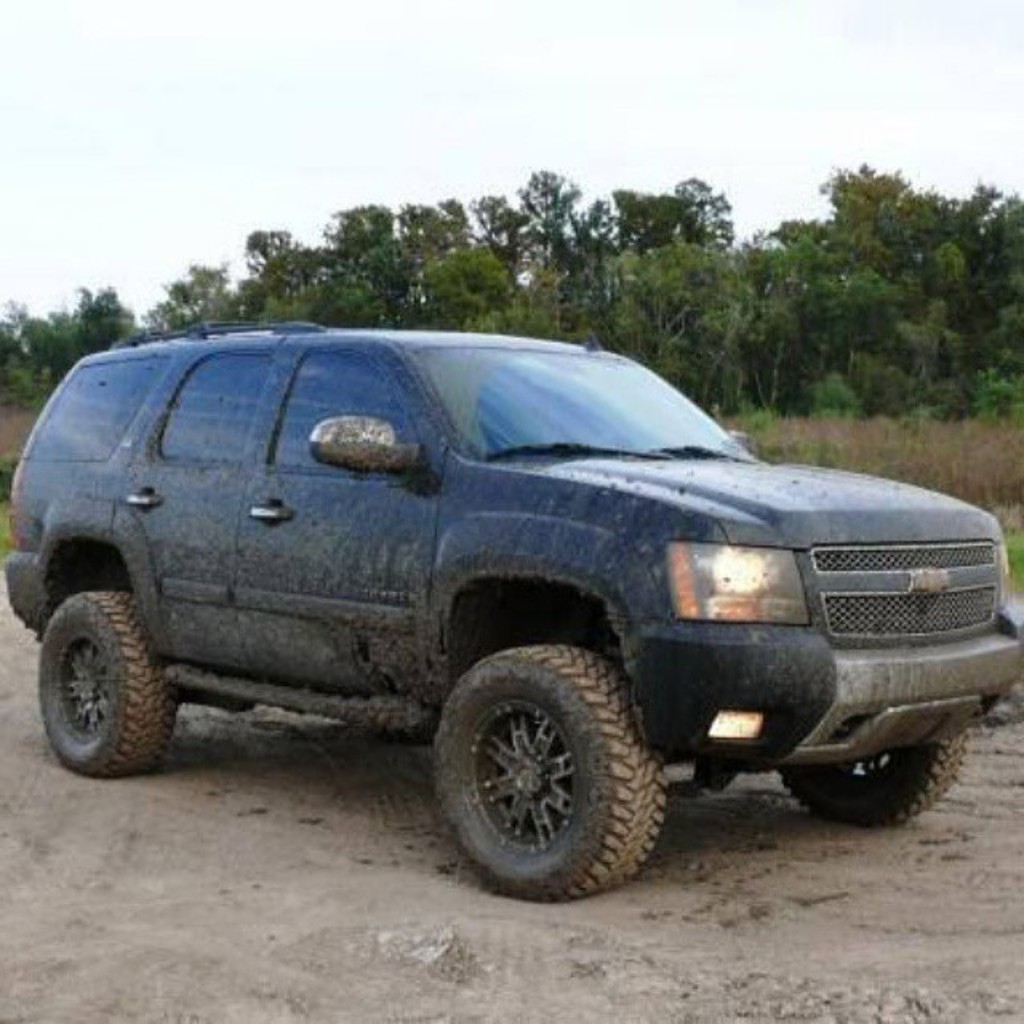car: (7, 305, 1024, 907)
